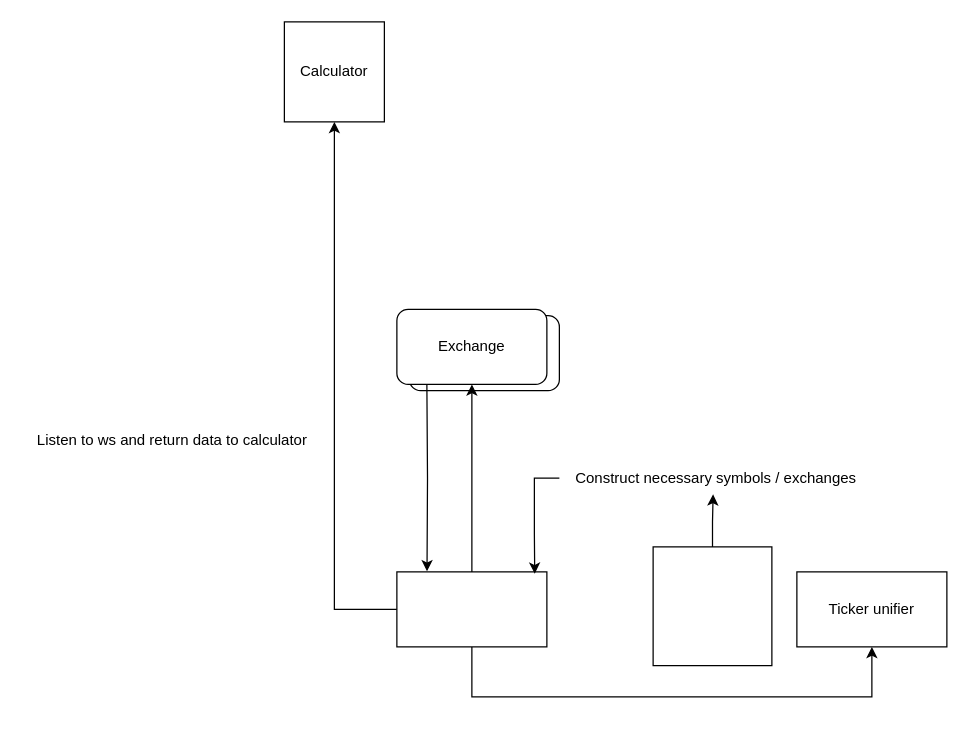
Some shapes in this 969 by 729 pixel diagram are drawn without their labels. The box of each missing label's shape, as (x1, y1, x2, y2) in pixels:
Config generator: (652, 546, 772, 666)
Engine: (396, 571, 547, 647)
